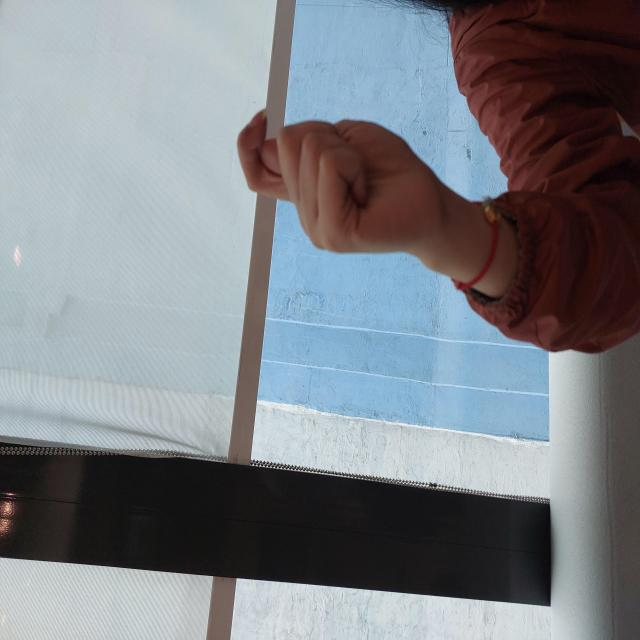T: (382, 235, 535, 450)
